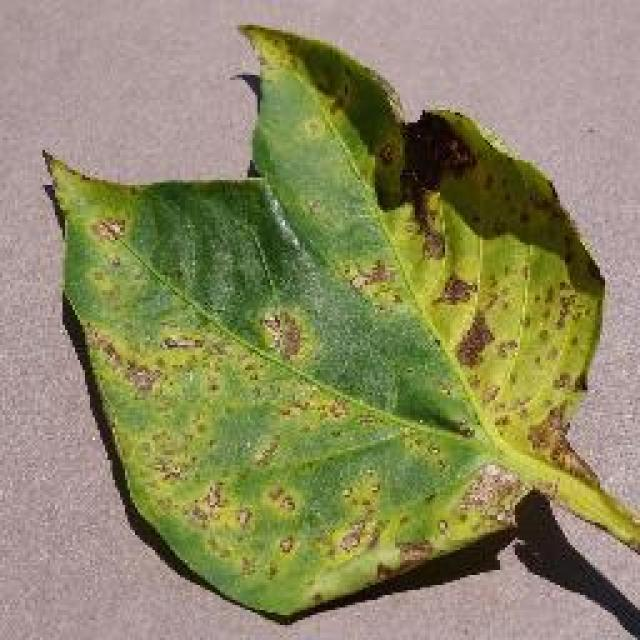Chilli_Bacterial_Spot: (38, 20, 638, 628), (385, 102, 610, 490), (395, 108, 480, 192), (450, 310, 498, 372), (255, 305, 305, 363), (182, 478, 230, 528), (428, 270, 478, 310), (328, 515, 372, 560), (117, 360, 165, 398), (260, 480, 300, 518), (155, 327, 205, 355), (88, 213, 128, 245), (272, 530, 300, 560), (230, 502, 255, 532)
